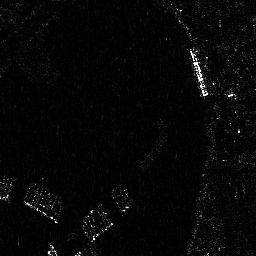ship: (187, 46, 208, 98)
